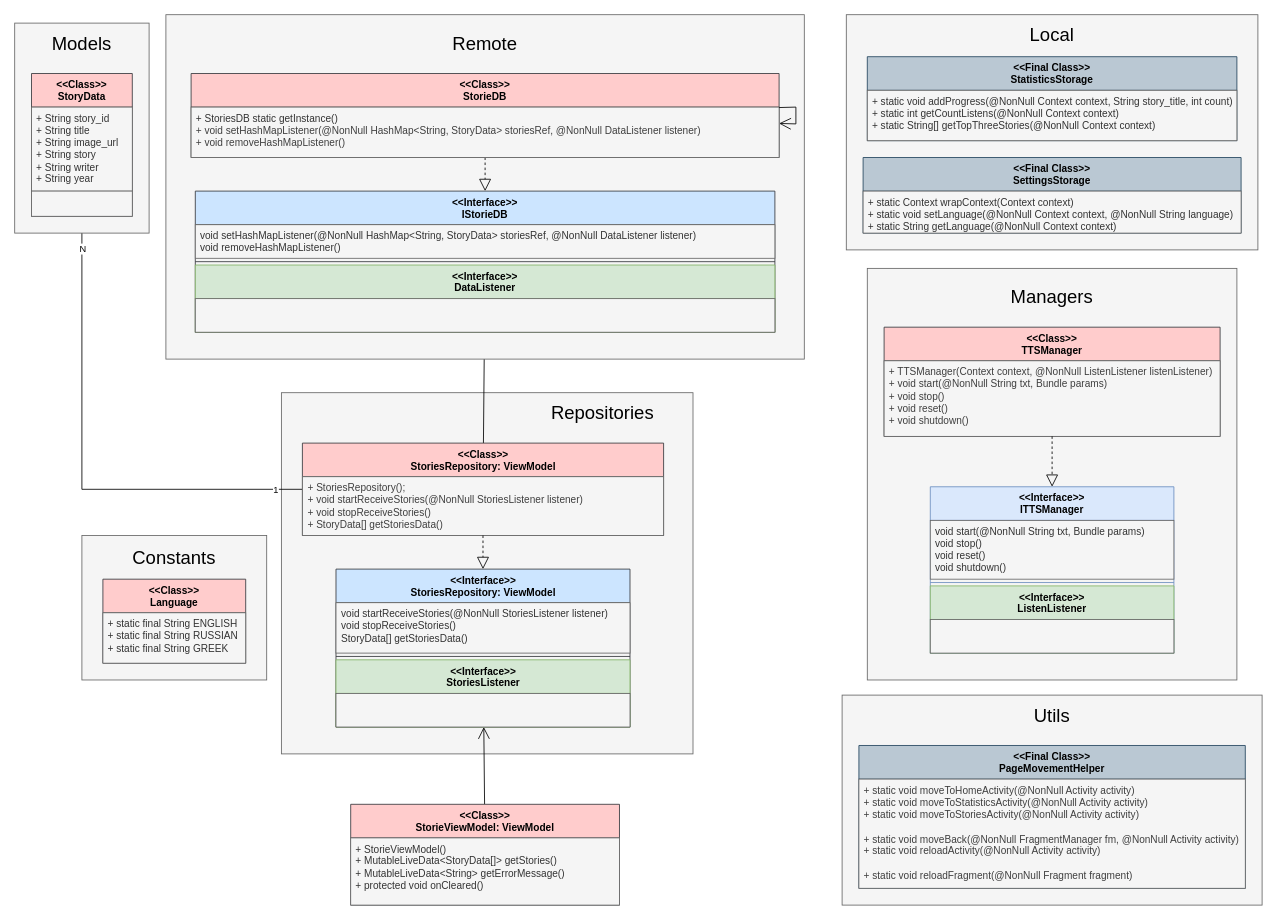
Some shapes in this 1277 by 922 pixel diagram are drawn without their labels. Here are the shapes that lost their labels. From the top down, the centre of each, then its label:
point 81,203: + StoryData()
point 484,315: void onDataChanged() void onCancelled(String errorLog)
point 1051,636: void onComplete() void orError(String errorLog)
point 482,710: void onStoriesChanged(StoryData[] stories) void onError(String errorLog)
